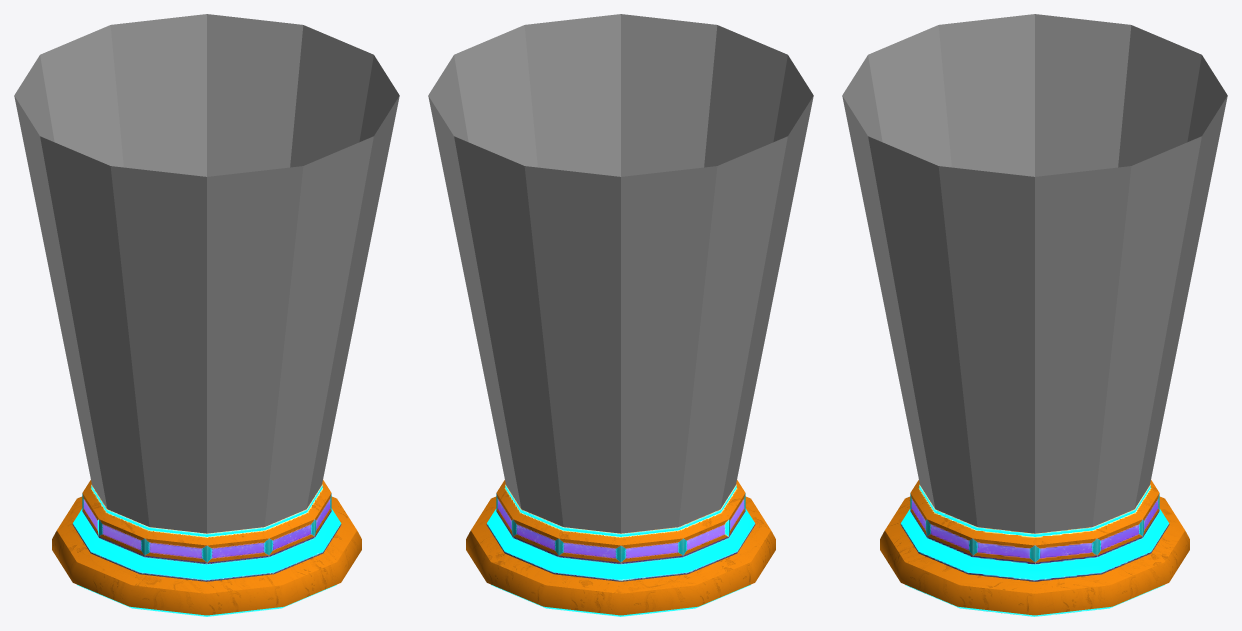
The model's file is SPW0110007.fbx.
3 renders of one model, left to right at view 1: azimuth 30°, elevation 25°; view 2: azimuth 150°, elevation 25°; view 3: azimuth 270°, elevation 25°, orthographic.
Visible parts, largest first — view 1: smSPW0110007; view 2: smSPW0110007; view 3: smSPW0110007.
Part boxes in pixels (x1,y1,x2,y2): smSPW0110007: [14, 14, 399, 616]; smSPW0110007: [428, 14, 813, 616]; smSPW0110007: [842, 14, 1227, 616].
Size of the model in its own units: 208 by 273 by 208.
Materials: 2 (1 with a texture image).
